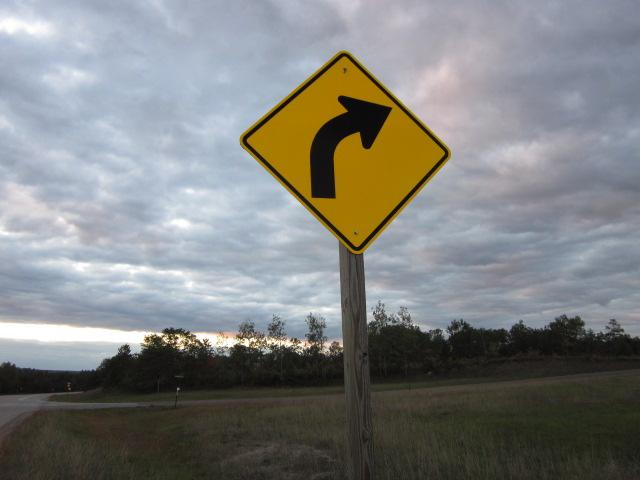warning: (238, 50, 455, 258)
